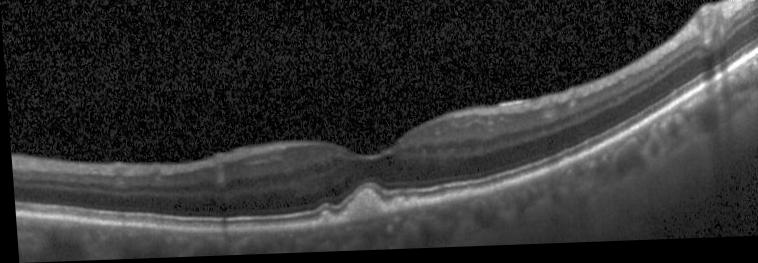retinal_drusen: (342, 194, 381, 225), (389, 201, 404, 214), (318, 216, 329, 227), (407, 202, 416, 211)
